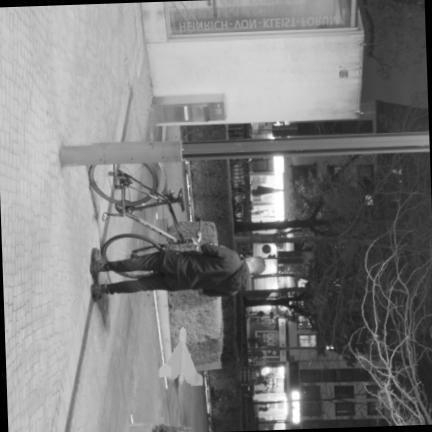Shahed: (159, 328, 202, 386)
